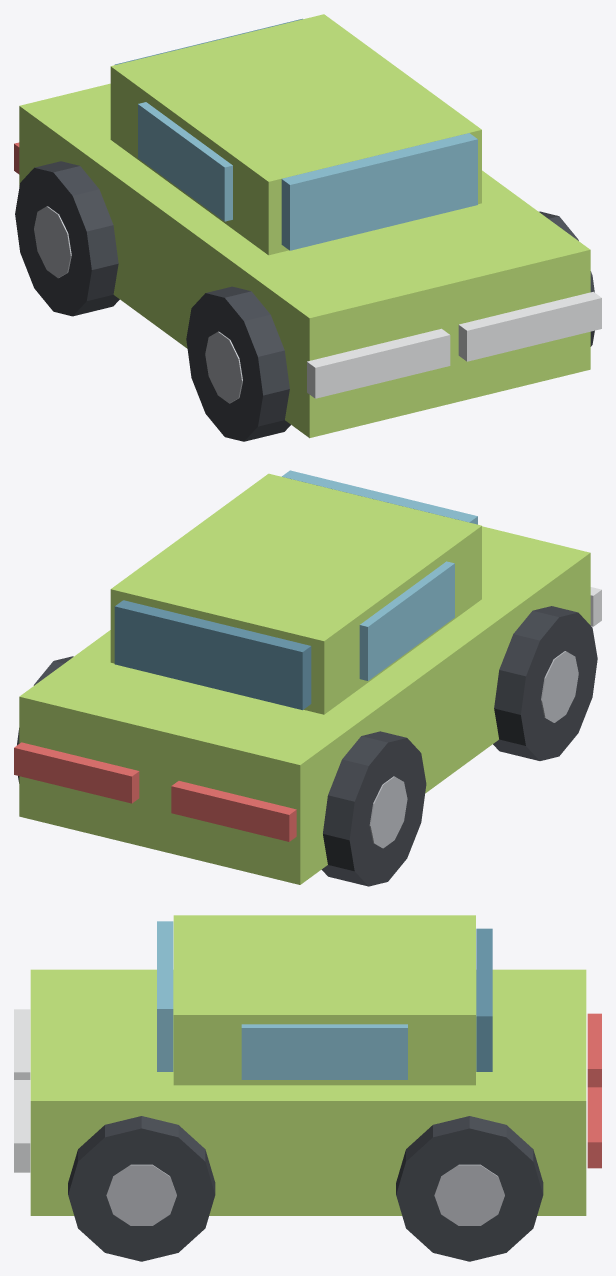
File: traffic_microcar_lime.glb
3 views of the same model, one above another, from view 1: azimuth 30°, elevation 25°; view 2: azimuth 150°, elevation 25°; view 3: azimuth 270°, elevation 25° (orthographic). The views are drawn at different scales.
Visible parts, largest first — view 1: body_0, roof_1, windshield_2, wheel_FL_6, wheel_RL_10, side_glass_L_4, headlight_L_14, headlight_R_15, rim_FL_7, rim_RL_11; view 2: body_0, roof_1, rear_glass_3, wheel_FL_6, wheel_RL_10, side_glass_L_4, taillight_L_16, taillight_R_17, rim_RL_11, rim_FL_7, windshield_2; view 3: body_0, roof_1, wheel_RR_12, wheel_FR_8, side_glass_R_5, rim_FR_9, rim_RR_13, windshield_2, rear_glass_3, headlight_R_15, taillight_R_17, headlight_L_14 (+1 smaller).
Part boxes in pixels (bbox=[...]): body_0: bbox=[19, 83, 590, 438]; roof_1: bbox=[110, 14, 481, 255]; windshield_2: bbox=[281, 133, 477, 250]; wheel_FL_6: bbox=[186, 286, 290, 441]; wheel_RL_10: bbox=[15, 161, 119, 316]; side_glass_L_4: bbox=[138, 102, 232, 221]; headlight_L_14: bbox=[307, 328, 450, 398]; headlight_R_15: bbox=[458, 291, 601, 361]; rim_FL_7: bbox=[205, 331, 242, 403]; rim_RL_11: bbox=[34, 206, 71, 278]; body_0: bbox=[19, 526, 590, 884]; roof_1: bbox=[110, 473, 481, 714]; rear_glass_3: bbox=[114, 600, 311, 710]; wheel_FL_6: bbox=[493, 606, 597, 760]; wheel_RL_10: bbox=[321, 731, 426, 886]; side_glass_L_4: bbox=[359, 561, 454, 680]; taillight_L_16: bbox=[171, 781, 296, 841]; taillight_R_17: bbox=[14, 742, 139, 803]; rim_RL_11: bbox=[369, 776, 407, 848]; rim_FL_7: bbox=[541, 651, 578, 722]; windshield_2: bbox=[282, 470, 477, 524]; body_0: bbox=[30, 969, 586, 1215]; roof_1: bbox=[173, 915, 475, 1085]; wheel_RR_12: bbox=[396, 1116, 543, 1261]; wheel_FR_8: bbox=[68, 1116, 215, 1261]; side_glass_R_5: bbox=[241, 1024, 407, 1079]; rim_FR_9: bbox=[106, 1164, 176, 1225]; rim_RR_13: bbox=[434, 1164, 504, 1225]; windshield_2: bbox=[157, 921, 173, 1071]; rear_glass_3: bbox=[476, 928, 492, 1071]; headlight_R_15: bbox=[14, 1080, 30, 1172]; taillight_R_17: bbox=[587, 1087, 601, 1168]; headlight_L_14: bbox=[14, 1009, 30, 1079].
Size of the model in its own units: 1.82 by 1.18 by 2.88.
